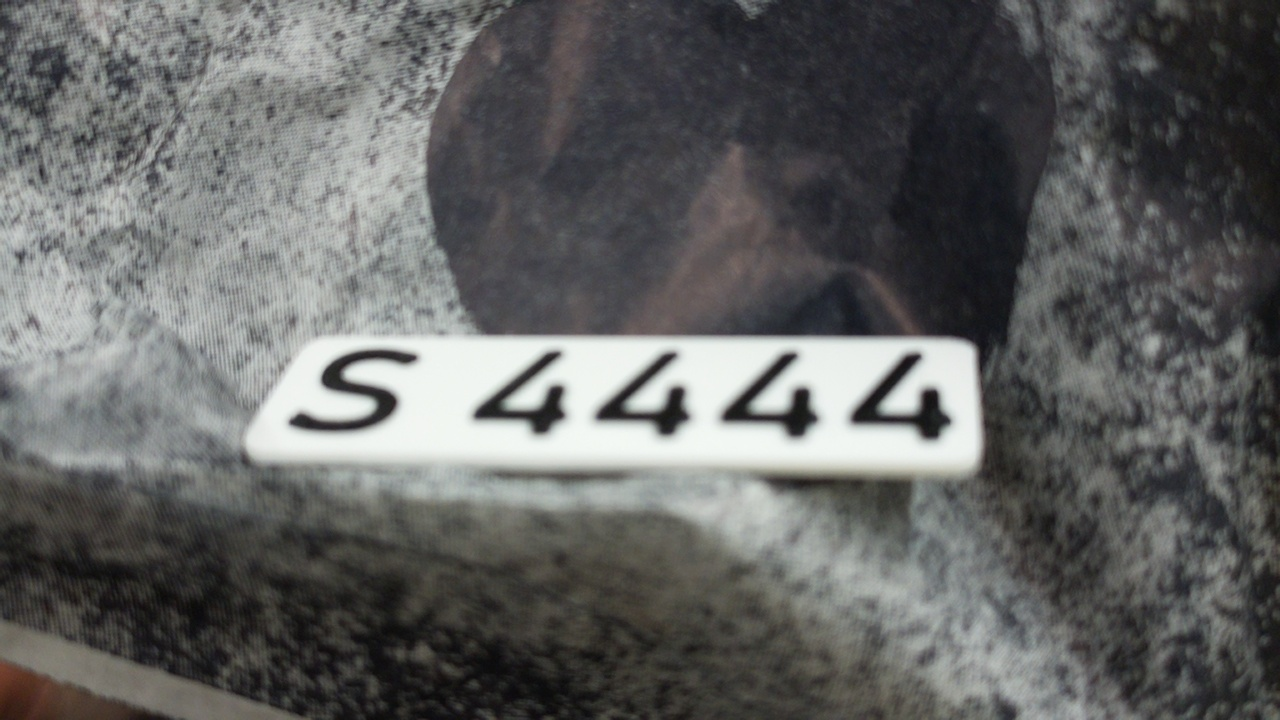license_plate: (239, 326, 990, 489)
